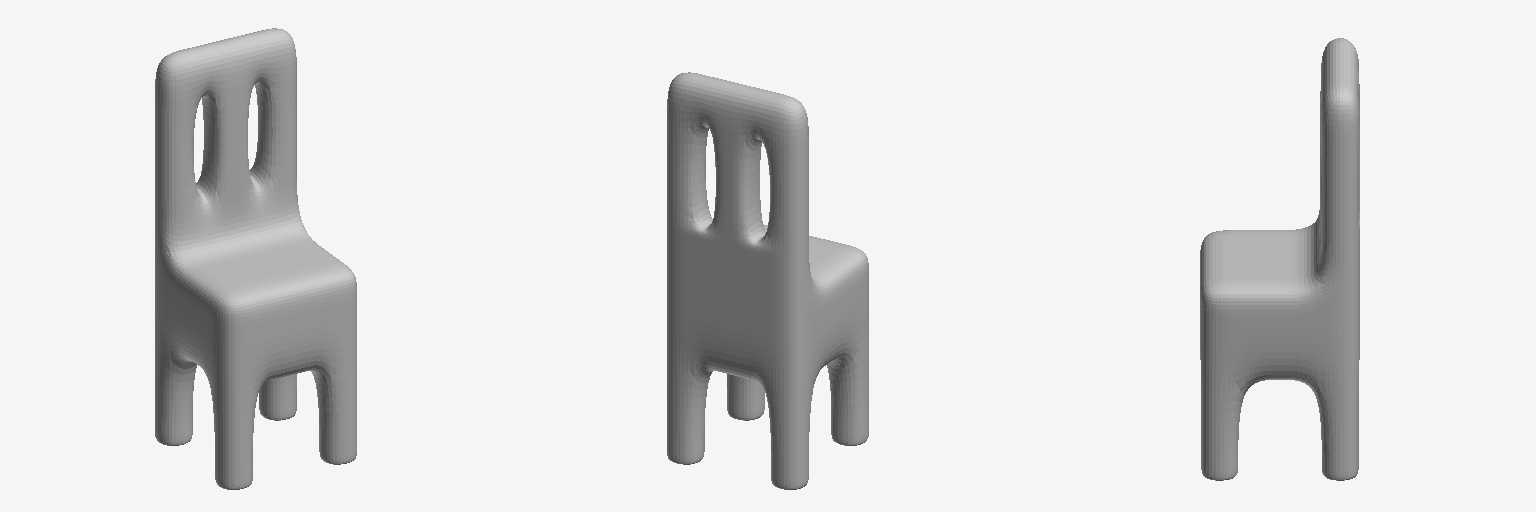
Rendered from Chair.obj.
3 views of the same model, side by side, from view 1: azimuth 30°, elevation 25°; view 2: azimuth 150°, elevation 25°; view 3: azimuth 270°, elevation 25° (orthographic).
Parts seen in each view (by area): view 1: Cube; view 2: Cube; view 3: Cube.
Boxes of the visible parts, <box> form: Cube: <box>155,28,356,489</box>; Cube: <box>667,72,868,489</box>; Cube: <box>1200,38,1359,480</box>.
Size of the model in its own units: 2 by 5.3 by 2.